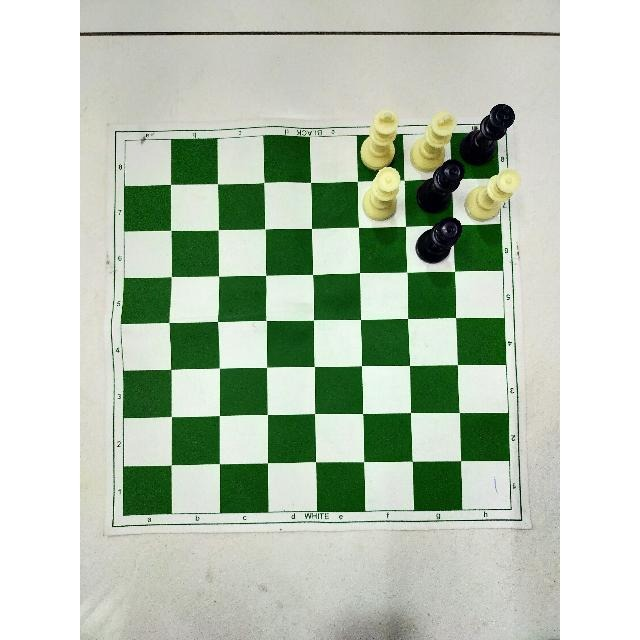black-king: (460, 102, 516, 164)
black-queen: (415, 157, 465, 214), (414, 217, 462, 264)
white-king: (409, 110, 458, 171), (358, 108, 400, 169)
white-queen: (463, 167, 520, 223), (362, 166, 401, 222)
